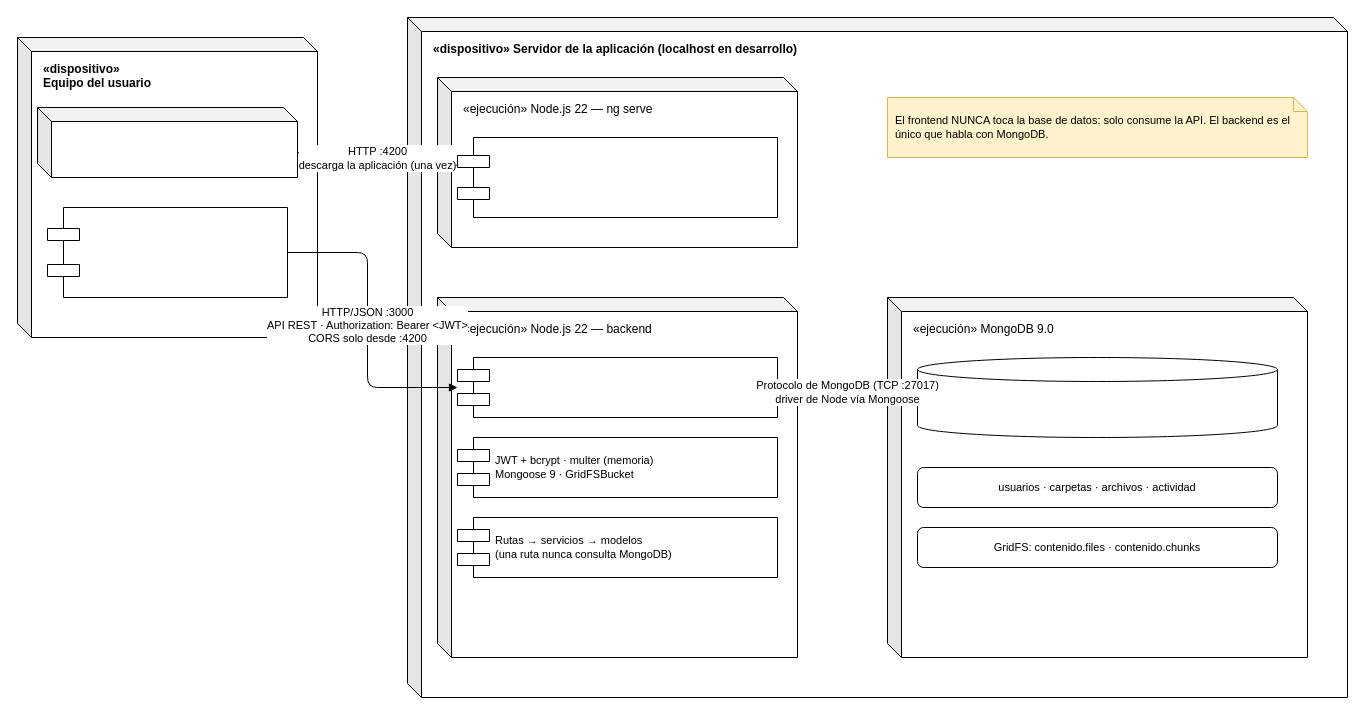
This 1365x715 diagram has some shape labels left out. The centre of each missing label's shape, as x and y in pixels:
API REST Express 5 :3000 (/api/...): point 617,387
Base gestion_documental :27017: point 1097,397
Servidor de desarrollo Angular :4200: point 617,177
SPA Angular 21 (JS + CSS descargados) token JWT en localStorage: point 167,252
«ejecución» Navegador web (Chrome / Firefox): point 167,142
